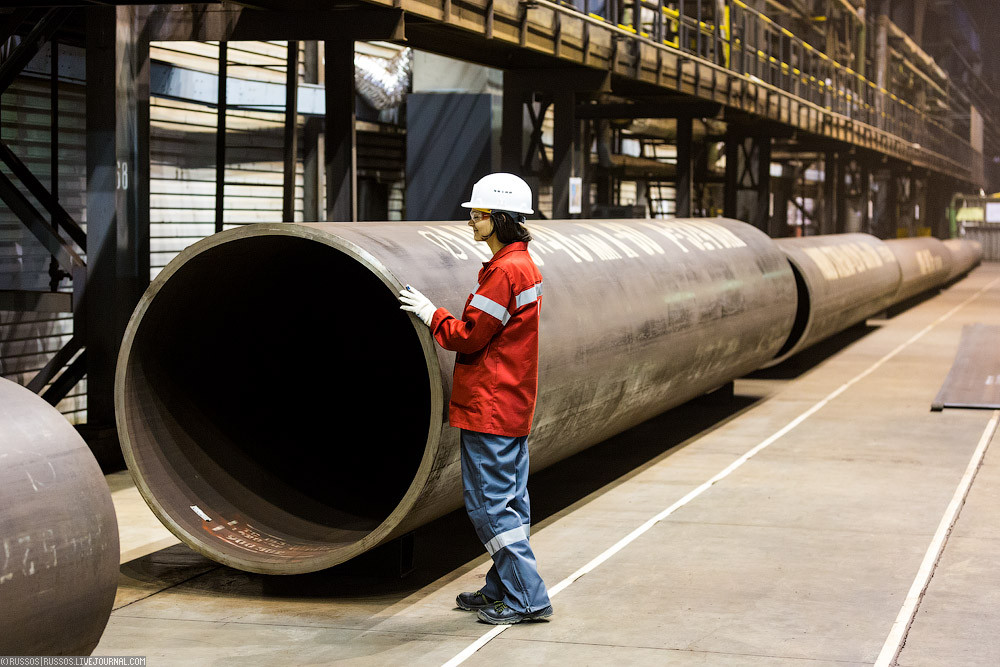person: (398, 172, 553, 627)
